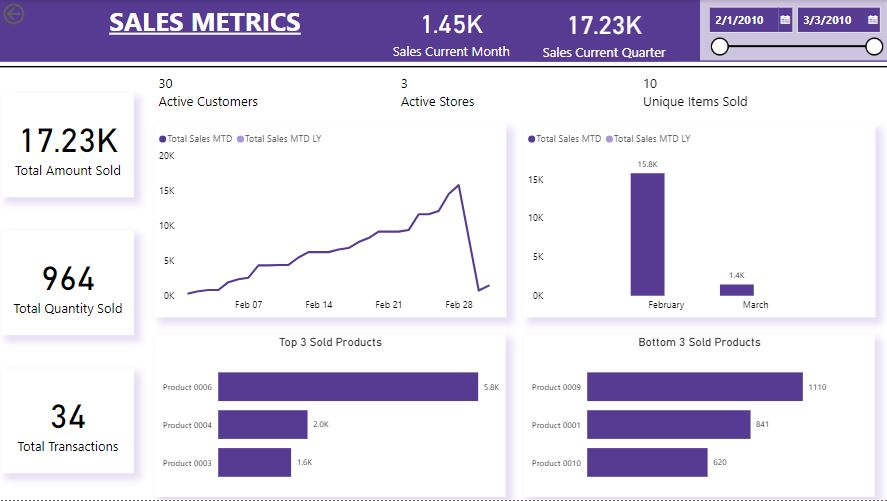

What the dashboard file says about the page in this screenshot:
{"tool":"powerbi","page":{"name":"Dashboard","canvas":[1280,720],"ordinal":0},"visuals":[{"type":"shape","box":[0,89,1280,13.4],"z":0},{"type":"textbox","box":[0,0,1280,89],"z":1000},{"type":"slicer","fields":{"Values":["Calendar.Date"]},"box":[1007.9,0,272.1,87.3],"z":3000},{"type":"card","fields":{"Values":["DAX Measures.Sales Current Month"]},"box":[551,0,196.5,87.3],"z":4000},{"type":"card","fields":{"Values":["DAX Measures.Sales Current Quarter"]},"box":[767.7,1.7,204.9,87.3],"z":5000},{"type":"card","fields":{"Values":["DAX Measures.Total Amount Sold"]},"box":[3.4,134.4,189.8,149.5],"z":6000},{"type":"card","fields":{"Values":["DAX Measures.Total Quantity Sold"]},"box":[3.4,332.6,189.8,149.5],"z":7000},{"type":"card","fields":{"Values":["DAX Measures.Total Transactions"]},"box":[3.4,530.8,189.8,149.5],"z":8000},{"type":"multiRowCard","fields":{"Values":["DAX Measures.Active Customers","DAX Measures.Active Stores","DAX Measures.Unique Items Sold"]},"box":[223.4,102.5,1056.6,62.2],"z":9000},{"type":"clusteredColumnChart","fields":{"Category":["Calendar.Date.Variation.Date Hierarchy.Month"],"Y":["DAX Measures.Total Sales MTD","DAX Measures.Total Sales MTD LY"]},"box":[754.2,179.7,505.6,277.2],"z":10000},{"type":"actionButton","box":[0,0,100,40],"z":11000},{"type":"lineChart","fields":{"Category":["Calendar.Date.Variation.Date Hierarchy.Year","Calendar.Date.Variation.Date Hierarchy.Quarter","Calendar.Date.Variation.Date Hierarchy.Month","Calendar.Date.Variation.Date Hierarchy.Day"],"Y":["DAX Measures.Total Sales MTD","DAX Measures.Total Sales MTD LY"]},"box":[223.4,179.7,505.6,277.2],"z":12000},{"type":"clusteredBarChart","title":"Top 3 Sold Products","fields":{"Category":["Sheet1.Product Name"],"Y":["DAX Measures.Total Amount Sold"]},"box":[223.2,482.4,505.4,233.3],"z":13000},{"type":"clusteredBarChart","title":"Bottom 3 Sold Products","fields":{"Category":["Sheet1.Product Name"],"Y":["DAX Measures.Total Amount Sold"]},"box":[754.6,482.4,505.4,233.3],"z":14000}]}

Visuals, with their boxes in screenshot pixels (x1, y1, x2, y2), scaled from the page's 1280x720 canvas onto the 887x501 screenshot:
shape: bbox(0, 62, 886, 71)
textbox: bbox(0, 0, 886, 62)
slicer - Calendar.Date: bbox(698, 0, 886, 61)
card - DAX Measures.Sales Current Month: bbox(382, 0, 518, 61)
card - DAX Measures.Sales Current Quarter: bbox(532, 1, 674, 62)
card - DAX Measures.Total Amount Sold: bbox(2, 94, 134, 198)
card - DAX Measures.Total Quantity Sold: bbox(2, 231, 134, 335)
card - DAX Measures.Total Transactions: bbox(2, 369, 134, 473)
multiRowCard - DAX Measures.Active Customers x DAX Measures.Active Stores: bbox(155, 71, 886, 115)
clusteredColumnChart - Calendar.Date.Variation.Date Hierarchy.Month x DAX Measures.Total Sales MTD: bbox(523, 125, 873, 318)
actionButton: bbox(0, 0, 69, 28)
lineChart - Calendar.Date.Variation.Date Hierarchy.Year x Calendar.Date.Variation.Date Hierarchy.Quarter: bbox(155, 125, 505, 318)
"Top 3 Sold Products" clusteredBarChart: bbox(155, 336, 505, 498)
"Bottom 3 Sold Products" clusteredBarChart: bbox(523, 336, 873, 498)
